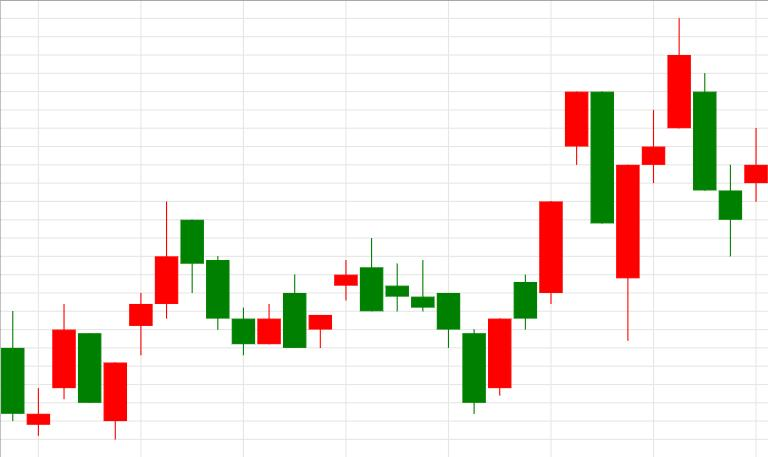bearish_engulfing_fall: (489, 91, 614, 396)
three_black_crows_fall: (104, 201, 255, 441)
